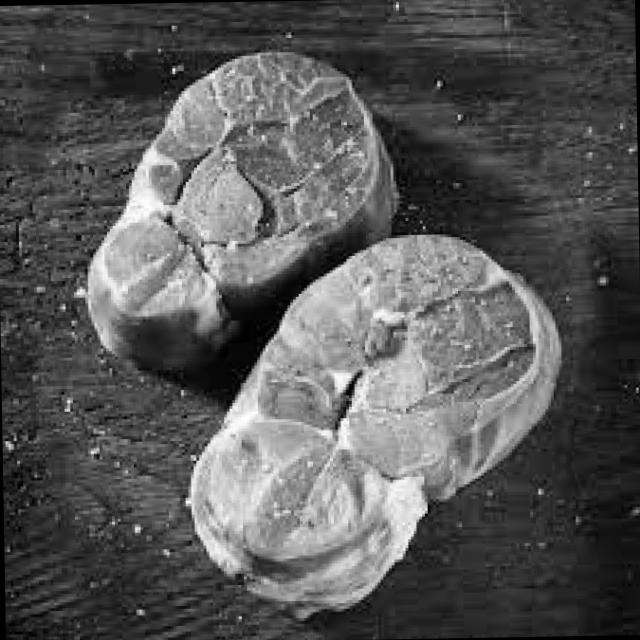ham hock: (184, 229, 577, 611), (84, 48, 402, 362)
